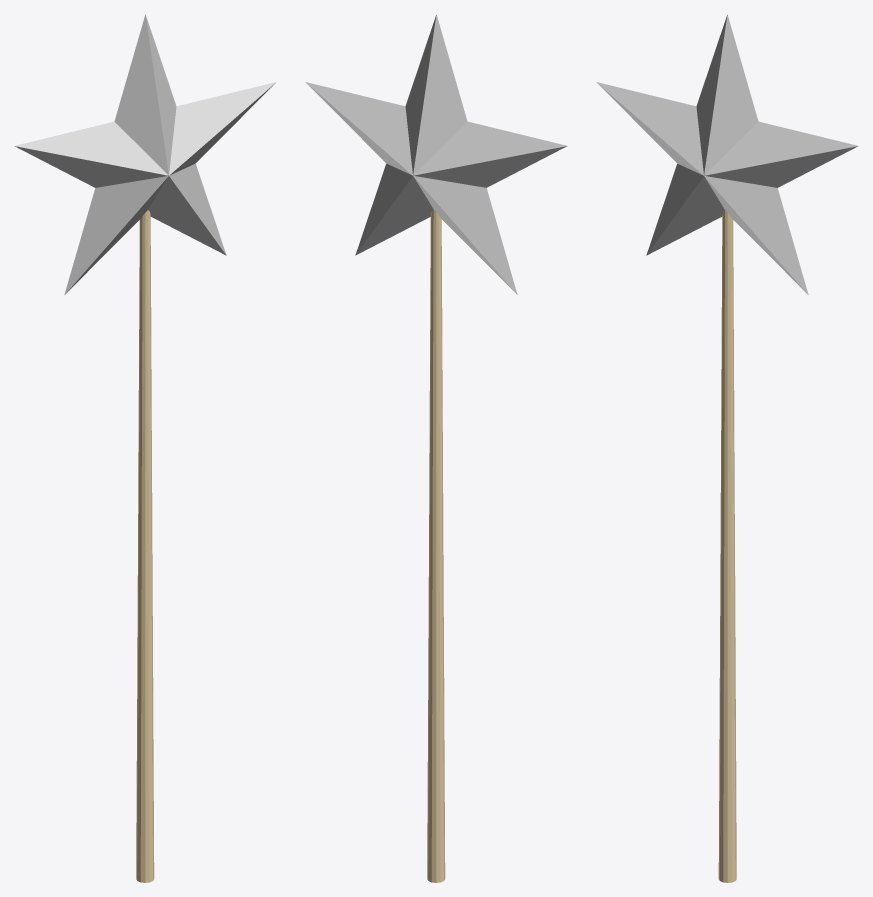
Rendered from fairy-wand.fbx.
3 views of the same model, side by side, from view 1: azimuth 30°, elevation 25°; view 2: azimuth 150°, elevation 25°; view 3: azimuth 330°, elevation 25° (orthographic).
Visible parts, largest first — view 1: star; view 2: star; view 3: star.
Boxes of the visible parts, x1=… form: star: x1=14, y1=14, x2=276, y2=882; star: x1=305, y1=14, x2=567, y2=882; star: x1=596, y1=14, x2=858, y2=882.
Size of the model in its own units: 512 by 1610 by 158.
